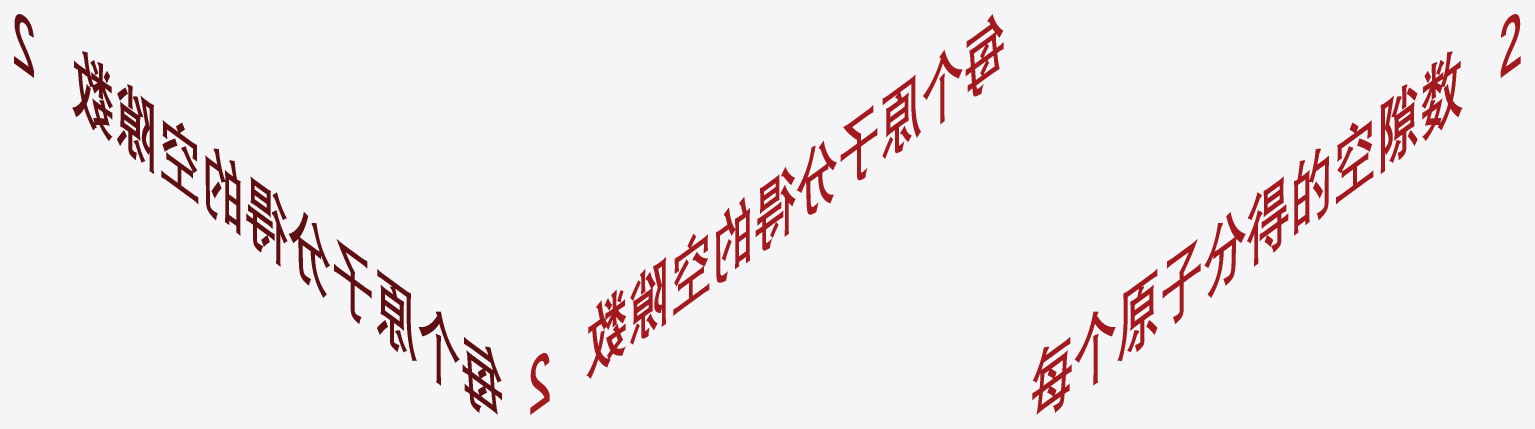
The model's file is 每个原子分得的空隙数.fbx.
The picture shows the model from 3 angles, left to right: view 1: azimuth 30°, elevation 25°; view 2: azimuth 150°, elevation 25°; view 3: azimuth 330°, elevation 25°; orthographic projection. The views are drawn at different scales.
Visible parts, largest first — view 1: Text; view 2: Text; view 3: Text.
Part boxes in pixels (left/top/right/bottom): Text: left=14, top=14, right=501, bottom=414; Text: left=530, top=14, right=1003, bottom=414; Text: left=1032, top=14, right=1520, bottom=414.
Size of the model in its own units: 0.2118 by 77.98 by 927.
